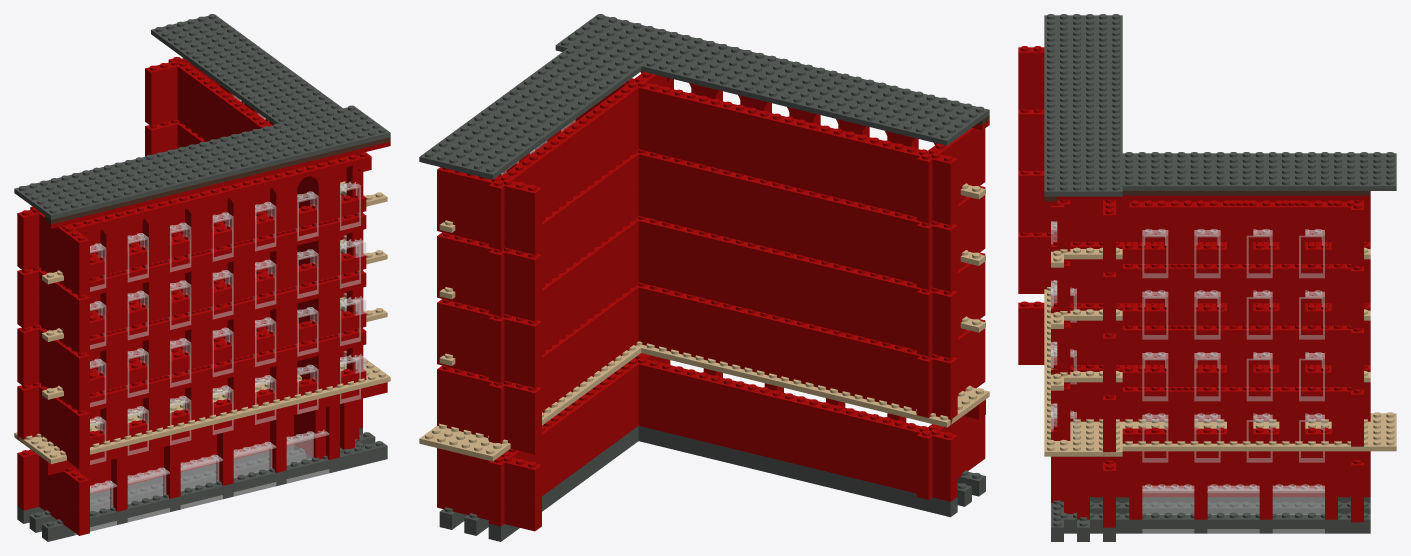
Rendered from 001-generated_bradbury_building.glb.
3 views of the same model, side by side, from view 1: azimuth 30°, elevation 25°; view 2: azimuth 150°, elevation 25°; view 3: azimuth 270°, elevation 25° (orthographic). The views are drawn at different scales.
Parts seen in each view (by area): view 1: 3008.dat (×54), 3035.dat (×18), 3010.dat (×37), 60593.dat (×15), 60581.dat (×5), 3659.dat (×7), 3460.dat (×2); view 2: 3008.dat (×119), 3035.dat (×20); view 3: 3008.dat (×50), 3035.dat (×21), 3010.dat (×28), 60593.dat (×15), 60581.dat (×3), 3460.dat (×8), 3004.dat (×9), 3659.dat (×4).
Part boxes in pixels (box(x1,y1,x2,y2)): 3008.dat (×54): box(17, 57, 387, 541); 3035.dat (×18): box(14, 14, 390, 464); 3010.dat (×37): box(111, 194, 366, 405); 60593.dat (×15): box(126, 191, 318, 397); 60581.dat (×5): box(74, 429, 329, 535); 3659.dat (×7): box(69, 152, 371, 236); 3460.dat (×2): box(45, 199, 135, 228); 3008.dat (×119): box(437, 72, 985, 531); 3035.dat (×20): box(419, 14, 989, 461); 3008.dat (×50): box(1018, 46, 1370, 541); 3035.dat (×21): box(1044, 14, 1396, 456); 3010.dat (×28): box(1122, 243, 1331, 443); 60593.dat (×15): box(1142, 229, 1324, 462); 60581.dat (×3): box(1142, 484, 1324, 533); 3460.dat (×8): box(1057, 191, 1370, 382); 3004.dat (×9): box(1168, 200, 1305, 405); 3659.dat (×4): box(1129, 200, 1337, 221).
Bounding box in the file's own units: 0.256 × 0.2384 × 0.232.
